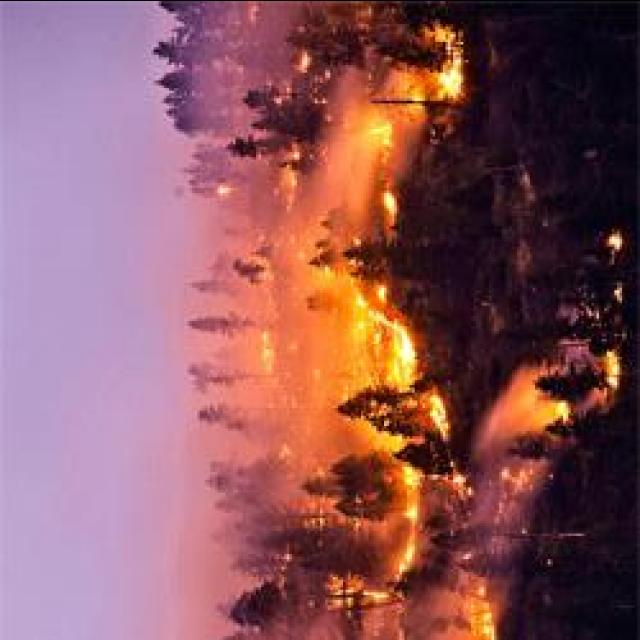fire: (367, 308, 415, 393), (393, 467, 429, 572), (368, 118, 394, 151)
smoke: (328, 70, 373, 210), (490, 386, 566, 461)
